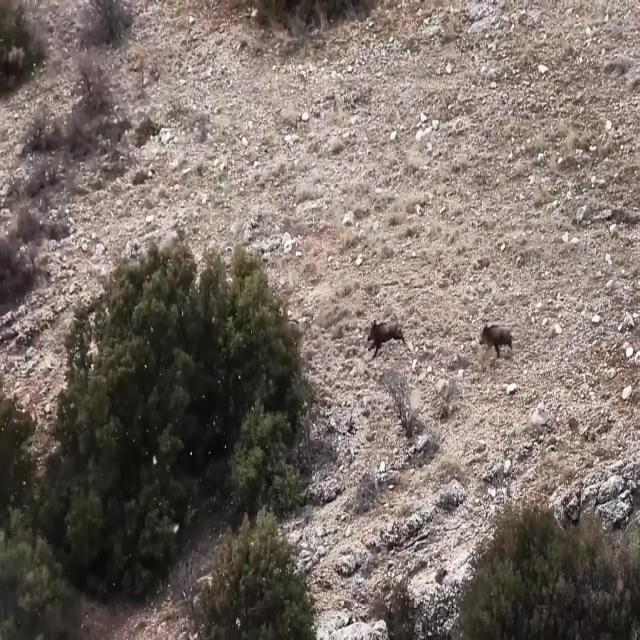pig: (462, 310, 537, 382), (357, 298, 425, 369)
